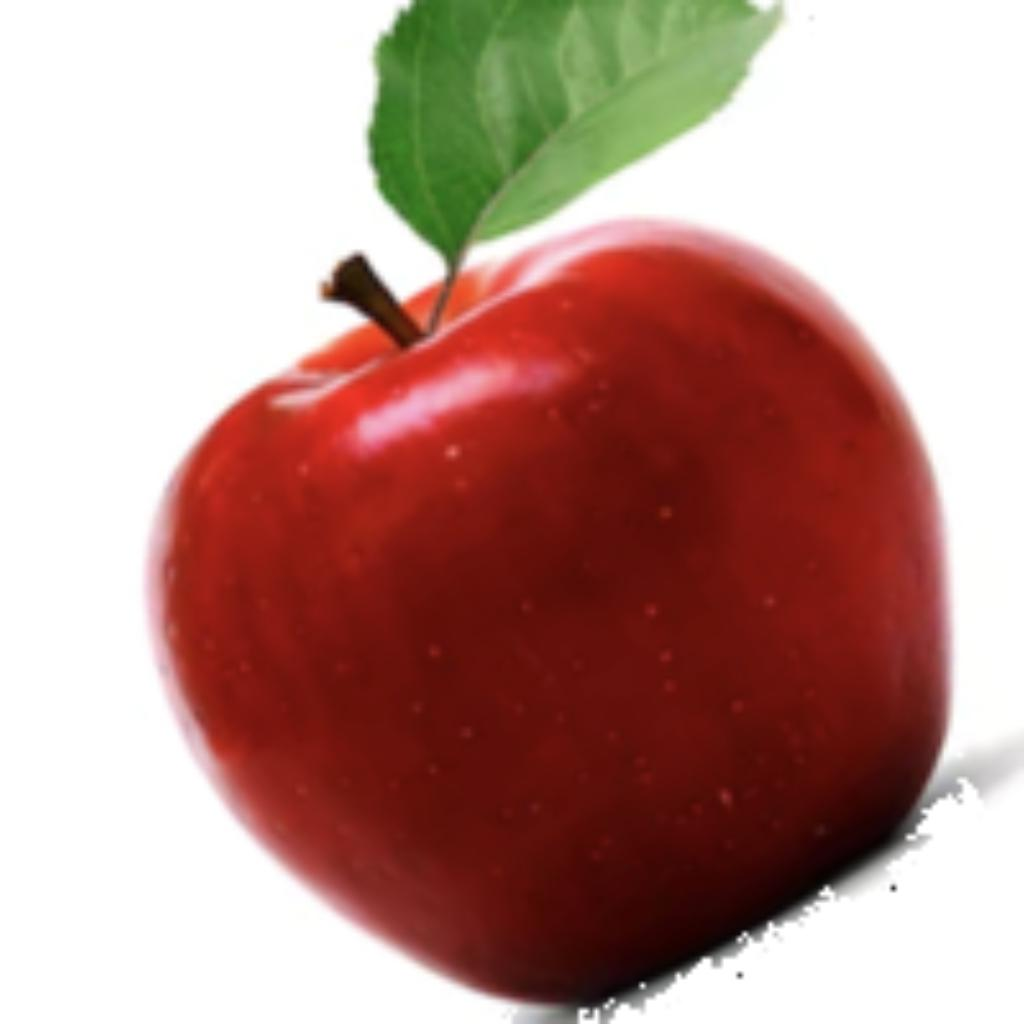apple: (138, 0, 1019, 1019)
